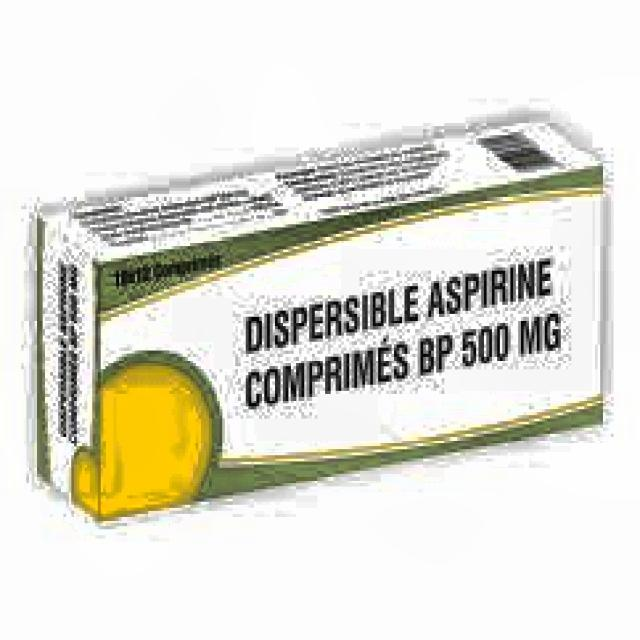Aspirin: (98, 167, 604, 518)
